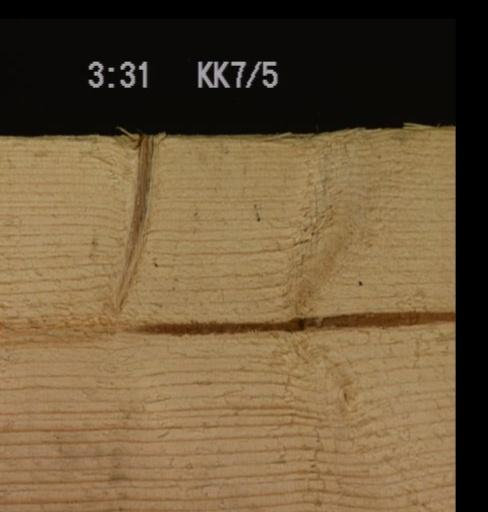small_knot: (348, 267, 374, 290)
